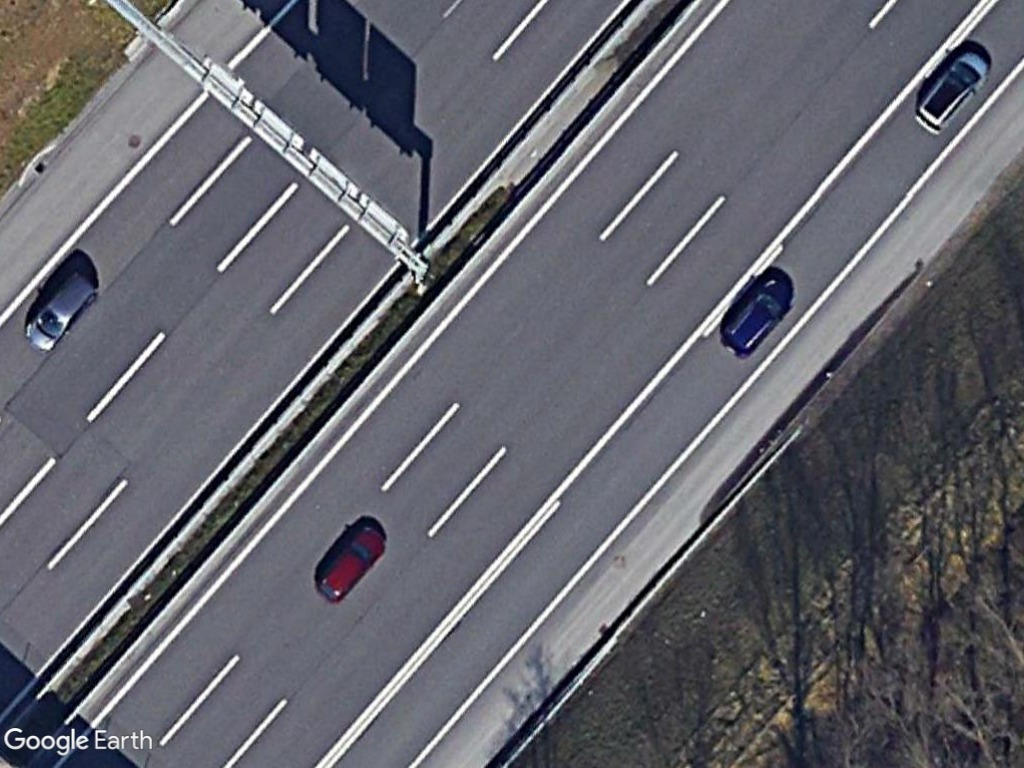car: (911, 47, 992, 134), (22, 269, 99, 353), (313, 522, 388, 605)
